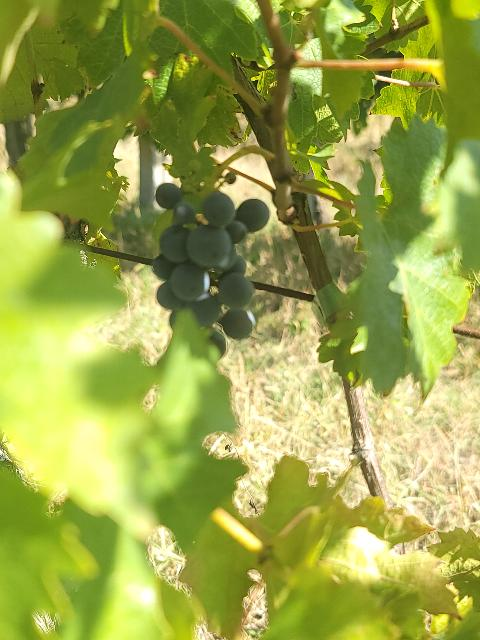grapes: (152, 182, 270, 354)
